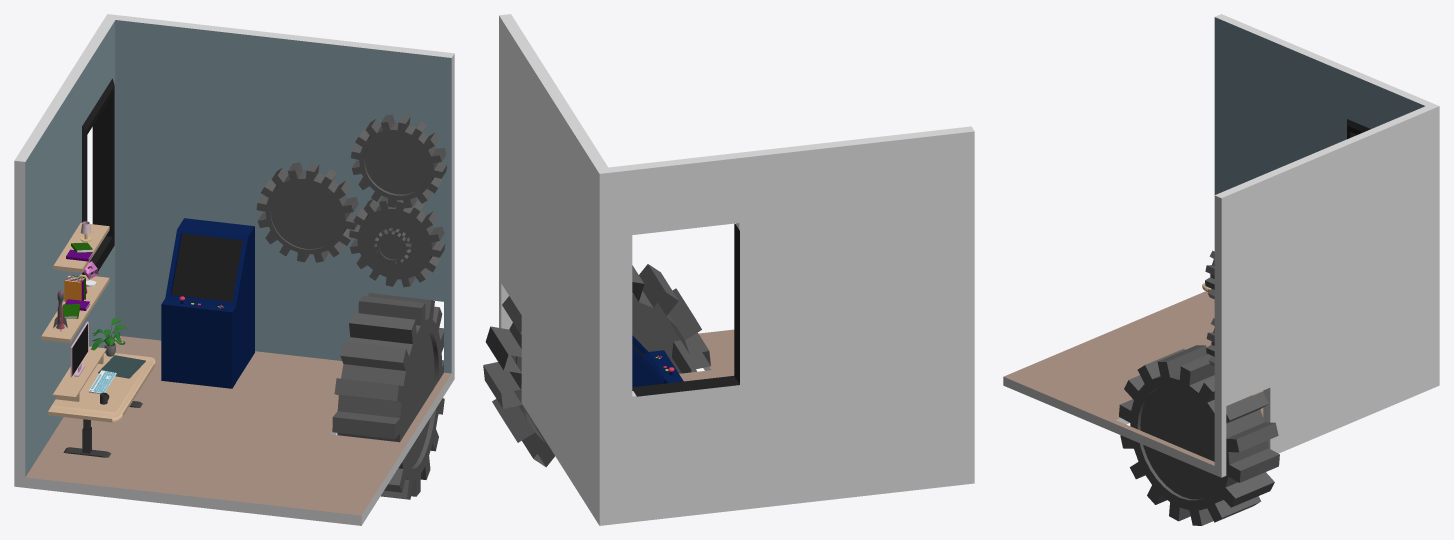
Rendered from portfolio-room-arcade.glb.
The picture shows the model from 3 angles, left to right: view 1: azimuth 30°, elevation 25°; view 2: azimuth 150°, elevation 25°; view 3: azimuth 270°, elevation 25°; orthographic projection. The views are drawn at different scales.
Parts seen in each view (by area): view 1: RoomWalls, Cylinder.007, Cube.105, Cylinder.003, Cylinder.006, Cylinder.004, Plane, arcadeScreen.001, Cube, Cube.053, Cube.004, Cube.059 (+2 smaller); view 2: RoomWalls, Cylinder.007, Plane, Cube.105; view 3: RoomWalls, Cylinder.007.
Boxes of the visible parts, x1,y1,x2,y2 form: RoomWalls: (14,14,454,525); Cylinder.007: (332,293,444,499); Cube.105: (161,218,254,388); Cylinder.003: (256,162,358,262); Cylinder.006: (351,114,446,208); Cylinder.004: (349,196,445,287); Plane: (82,78,114,274); arcadeScreen.001: (171,233,242,301); Cube: (48,353,155,422); Cube.053: (41,274,109,343); Cube.004: (52,346,106,401); Cube.059: (53,223,109,272); RoomWalls: (499,14,974,525); Cylinder.007: (483,264,710,467); Plane: (632,223,739,396); Cube.105: (632,335,683,390); RoomWalls: (1003,14,1439,477); Cylinder.007: (1119,345,1279,525).
Size of the model in its own units: 13.97 by 12.21 by 13.86.
